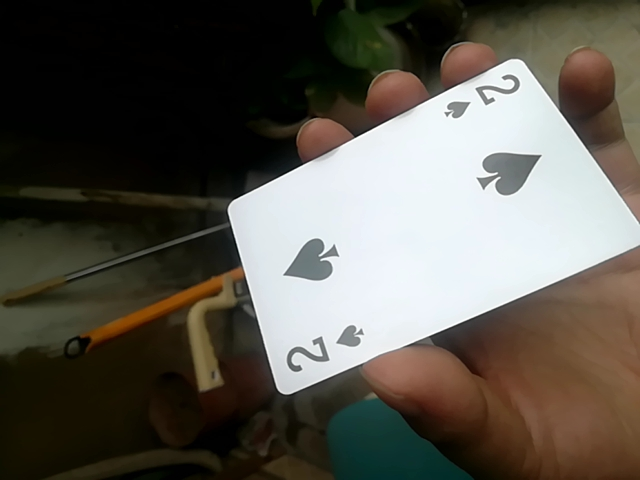ht 2: (215, 54, 638, 405)
